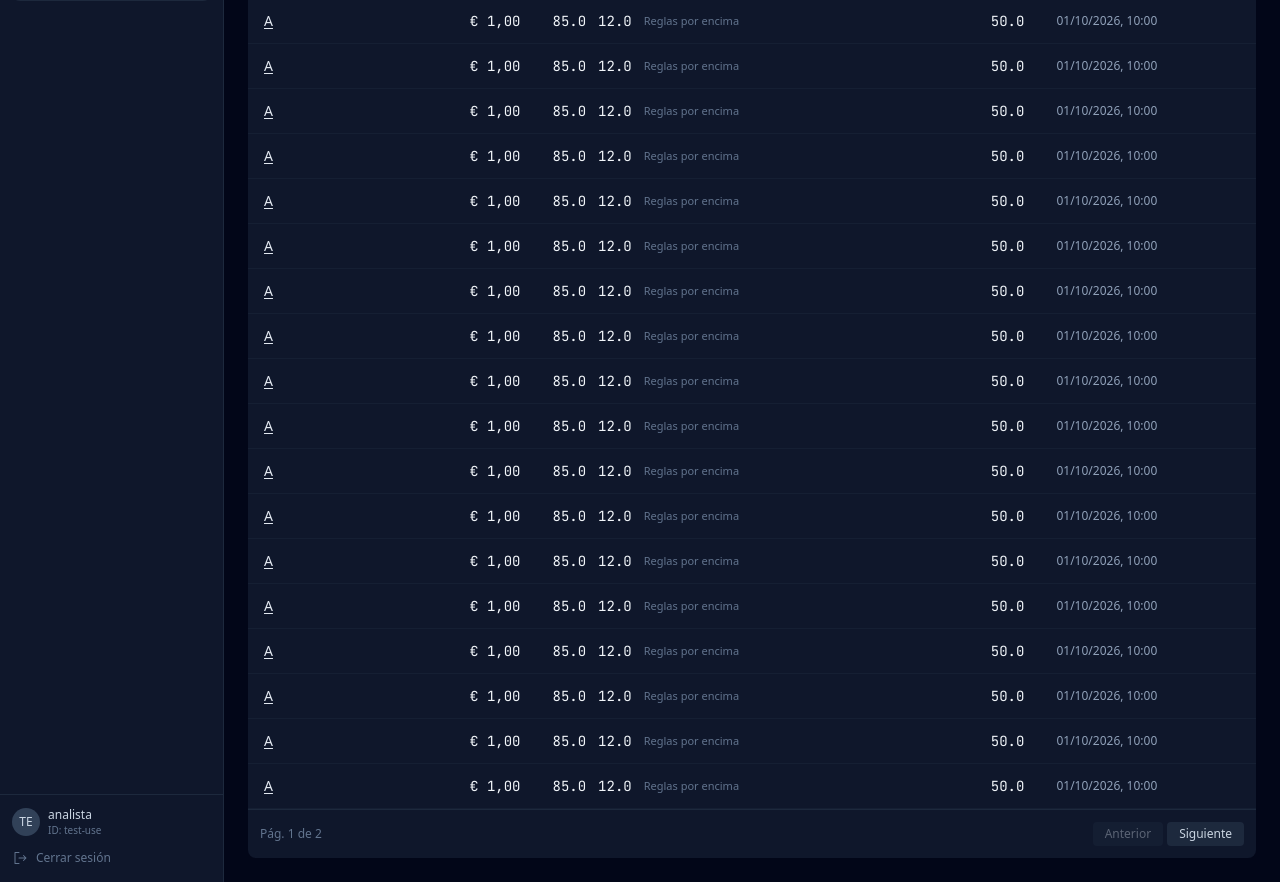
Test: ConflictQueuePage — composition and decisions › the page and its requests go through the list-query helpers
The width and height of the screenshot is (1280, 882).
(page scrolled)
What coordinates should you click on to do the following:
click the button "Siguiente"
I would click on:
 (1206, 834)
Its box is [1167,822,1244,846].
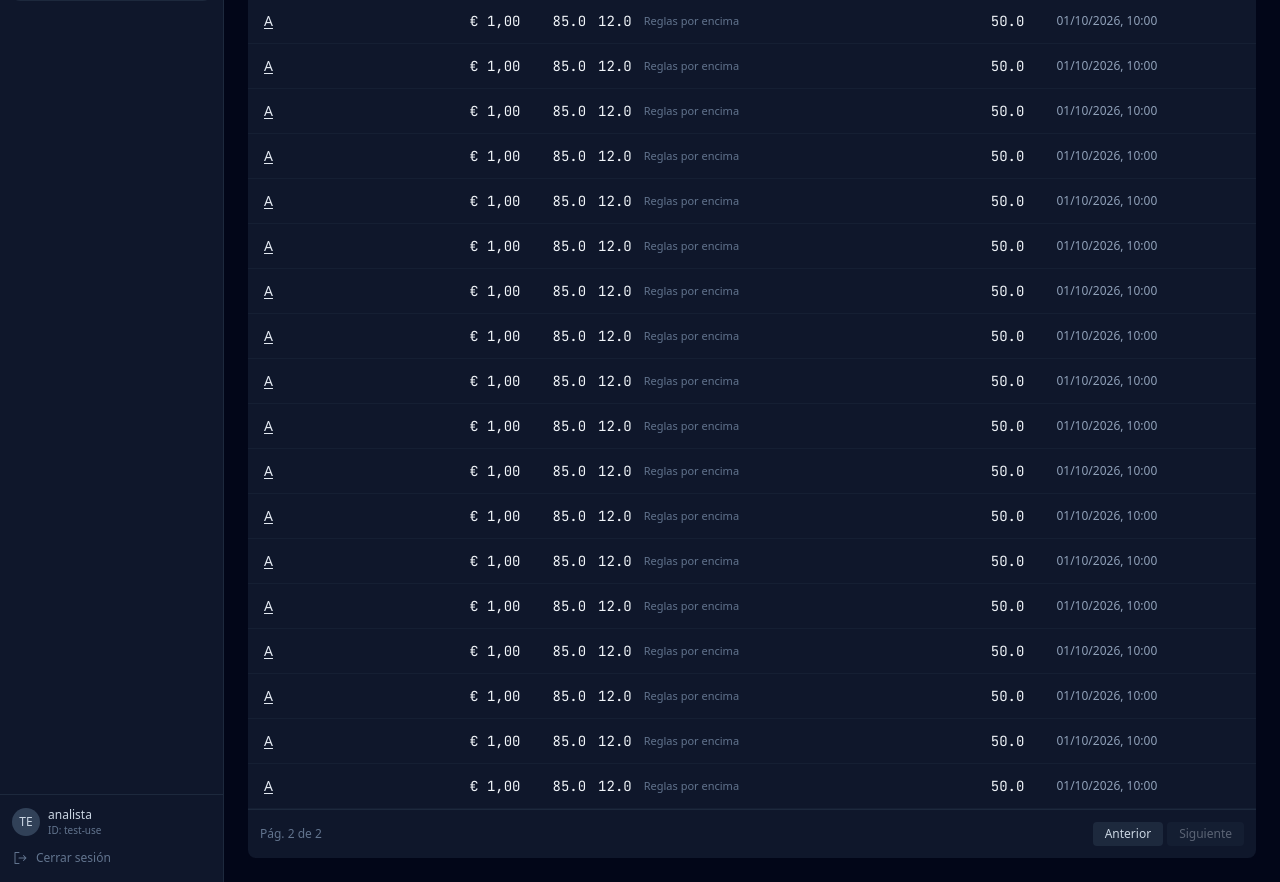
expect the text "Pág. 2 de 2" is shown: met, box [260,826,322,842]
